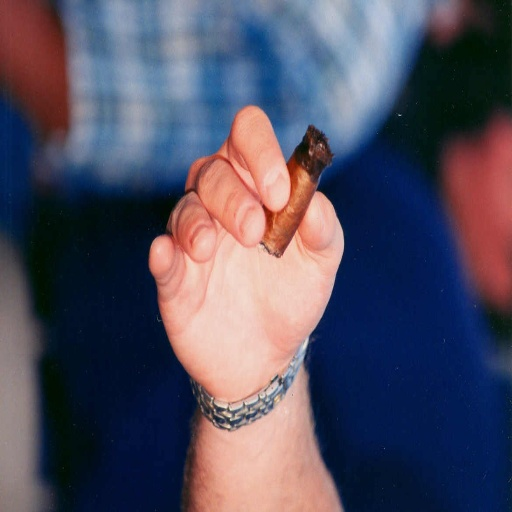hand: (153, 117, 353, 411)
